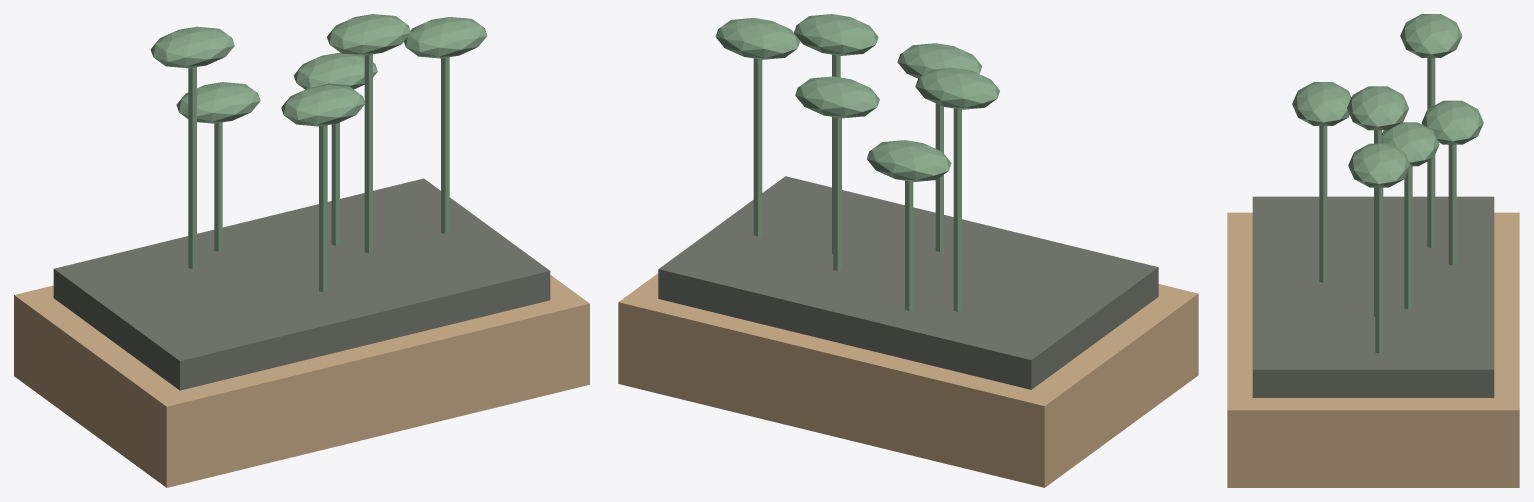
The model's file is roof_garden_04.glb.
3 views of the same model, side by side, from view 1: azimuth 30°, elevation 25°; view 2: azimuth 150°, elevation 25°; view 3: azimuth 270°, elevation 25° (orthographic). The views are drawn at different scales.
Parts seen in each view (by area): view 1: soil, bed, leaf0, leaf1, leaf4, leaf2, leaf3, leaf5, stem4, stem1, stem2, stem0 (+2 smaller); view 2: soil, bed, leaf1, leaf4, leaf3, leaf5, leaf2, leaf0, stem4, stem2, stem5, stem3 (+1 smaller); view 3: soil, bed, leaf2, leaf1, leaf4, leaf0, leaf3, leaf5, stem2, stem0, stem5, stem4 (+2 smaller).
Boxes of the visible parts, box(x1,y1,x2,y2) form: soil: box(53, 178, 550, 390); bed: box(14, 275, 589, 487); leaf0: box(281, 85, 365, 126); leaf1: box(327, 14, 410, 55); leaf4: box(150, 26, 234, 68); leaf2: box(404, 17, 487, 58); leaf3: box(176, 82, 260, 123); leaf5: box(293, 52, 377, 89); stem4: box(188, 67, 196, 268); stem1: box(364, 54, 372, 252); stem2: box(441, 57, 449, 233); stem0: box(319, 125, 327, 292); soil: box(658, 176, 1158, 389); bed: box(618, 273, 1198, 487); leaf1: box(794, 14, 878, 55); leaf4: box(915, 67, 999, 109); leaf3: box(867, 140, 951, 181); leaf5: box(795, 76, 879, 118); leaf2: box(715, 18, 800, 59); leaf0: box(897, 43, 982, 78); stem4: box(953, 108, 961, 311); stem2: box(753, 58, 762, 236); stem5: box(833, 117, 841, 270); stem3: box(905, 181, 913, 310); soil: box(1252, 196, 1494, 397); bed: box(1227, 212, 1519, 487); leaf2: box(1348, 143, 1410, 187); leaf1: box(1347, 86, 1408, 130); leaf4: box(1400, 14, 1462, 57); leaf0: box(1292, 82, 1351, 125); leaf3: box(1421, 100, 1483, 144); leaf5: box(1382, 122, 1439, 166); stem2: box(1375, 187, 1383, 353); stem0: box(1319, 126, 1327, 282); stem5: box(1404, 166, 1412, 309); stem4: box(1427, 58, 1435, 247).
Bounding box in the file's own units: 1.2 × 0.9347 × 0.75.
